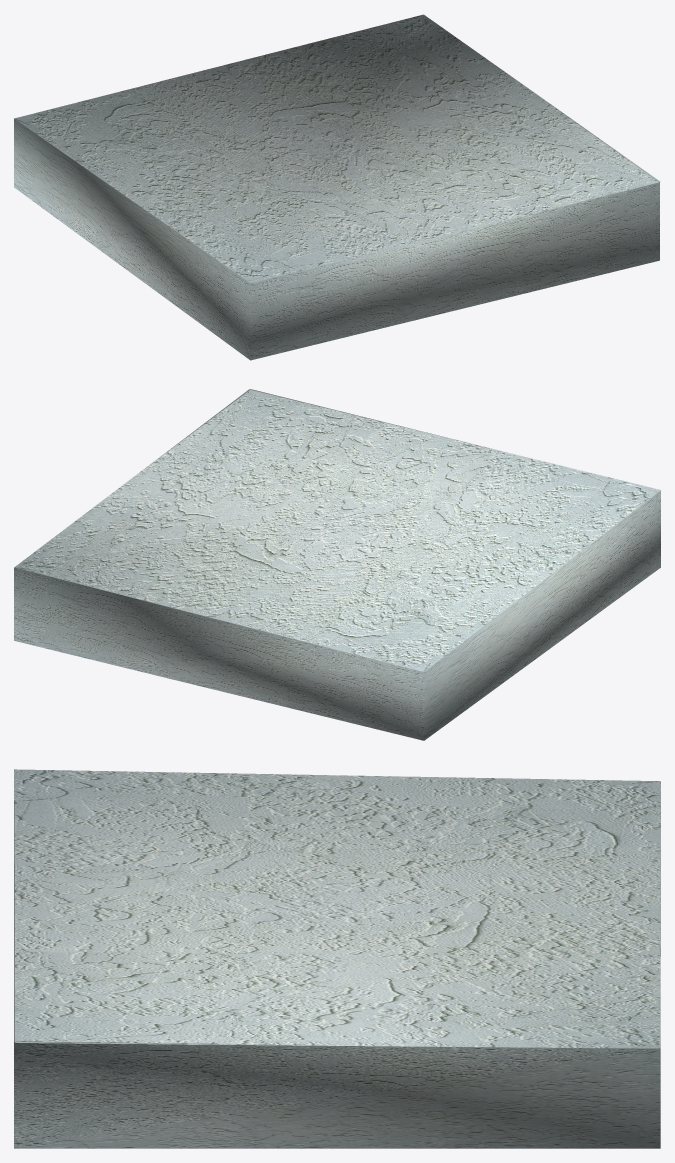
The model's file is Copy of tile.FBX.
The picture shows the model from 3 angles, top to bottom: view 1: azimuth 30°, elevation 25°; view 2: azimuth 150°, elevation 25°; view 3: azimuth 270°, elevation 25°; orthographic projection. The views are drawn at different scales.
Visible parts, largest first — view 1: Box01; view 2: Box01; view 3: Box01.
Part boxes in pixels (x1,y1,x2,y2): Box01: (14, 14, 660, 360); Box01: (14, 389, 660, 740); Box01: (14, 769, 660, 1148).
Bounding box in the file's own units: 100 × 100 × 18.26.
Materials: 1 (1 with a texture image).
